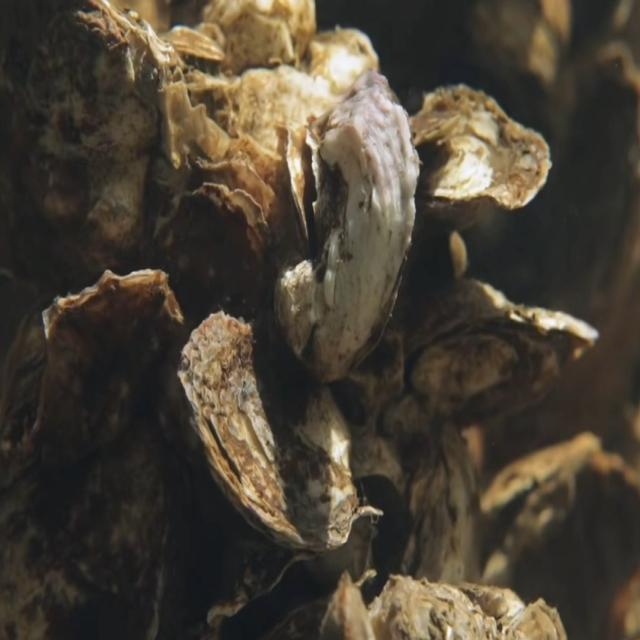Oyster-Closed: (0, 268, 184, 640), (176, 309, 360, 555), (276, 69, 419, 382), (404, 278, 640, 428), (412, 84, 552, 239), (394, 424, 486, 640)
Oyster-Indeterminate: (0, 1, 216, 380), (152, 180, 276, 330)
Oyster-Open: (478, 434, 640, 640), (204, 506, 383, 640)
